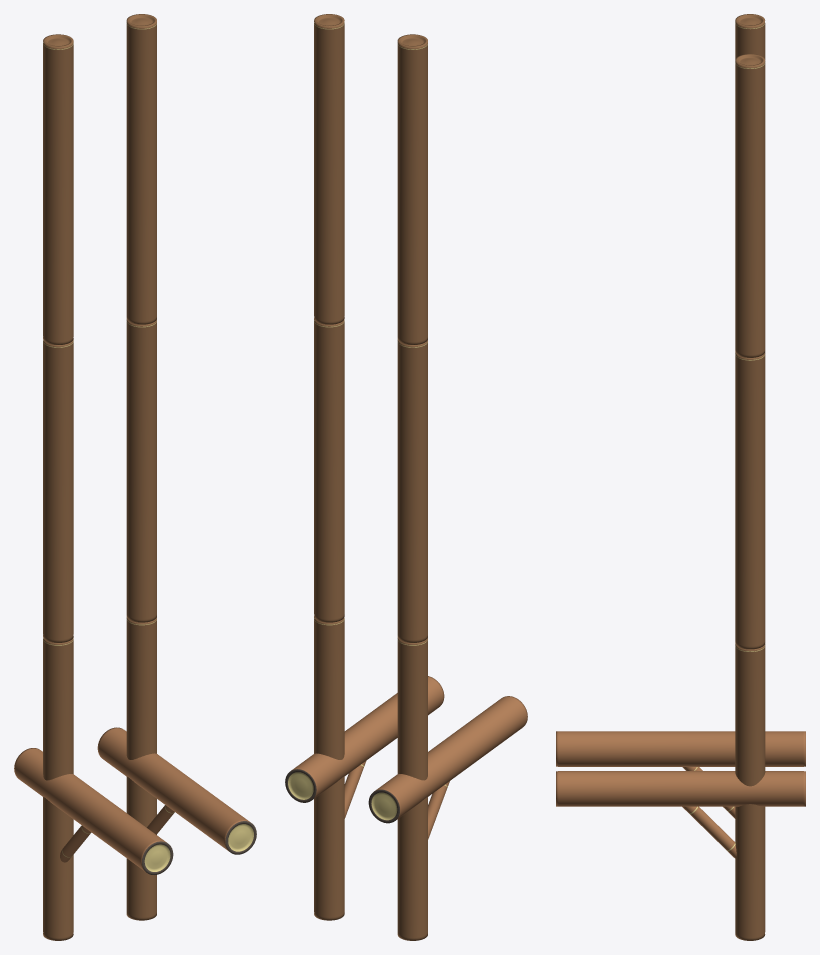
Rendered from egrang.fbx.
3 renders of one model, left to right at view 1: azimuth 30°, elevation 25°; view 2: azimuth 150°, elevation 25°; view 3: azimuth 270°, elevation 25°, orthographic. The views are drawn at different scales.
Parts seen in each view (by area): view 1: Tiang_penyangga.kiri, Tiang_penyangga, Pijakan_kaki, Pijakan_kaki.kiri; view 2: Tiang_penyangga, Tiang_penyangga.kiri, Pijakan_kaki.kiri, Pijakan_kaki; view 3: Tiang_penyangga, Pijakan_kaki, Pijakan_kaki.kiri, Tiang_penyangga.kiri, Penopang_pijakan.
Boxes of the visible parts, left/top/right/bottom form: Tiang_penyangga.kiri: left=43, top=34, right=73, bottom=940; Tiang_penyangga: left=126, top=14, right=156, bottom=920; Pijakan_kaki: left=97, top=727, right=256, bottom=854; Pijakan_kaki.kiri: left=14, top=748, right=173, bottom=874; Tiang_penyangga: left=314, top=14, right=344, bottom=920; Tiang_penyangga.kiri: left=397, top=34, right=427, bottom=940; Pijakan_kaki.kiri: left=368, top=696, right=527, bottom=823; Pijakan_kaki: left=285, top=676, right=444, bottom=802; Tiang_penyangga: left=735, top=54, right=765, bottom=940; Pijakan_kaki: left=556, top=771, right=805, bottom=806; Pijakan_kaki.kiri: left=556, top=731, right=805, bottom=766; Tiang_penyangga.kiri: left=735, top=14, right=765, bottom=645; Penopang_pijakan: left=682, top=806, right=736, bottom=858.
Size of the model in its own units: 136 by 1008 by 261.
